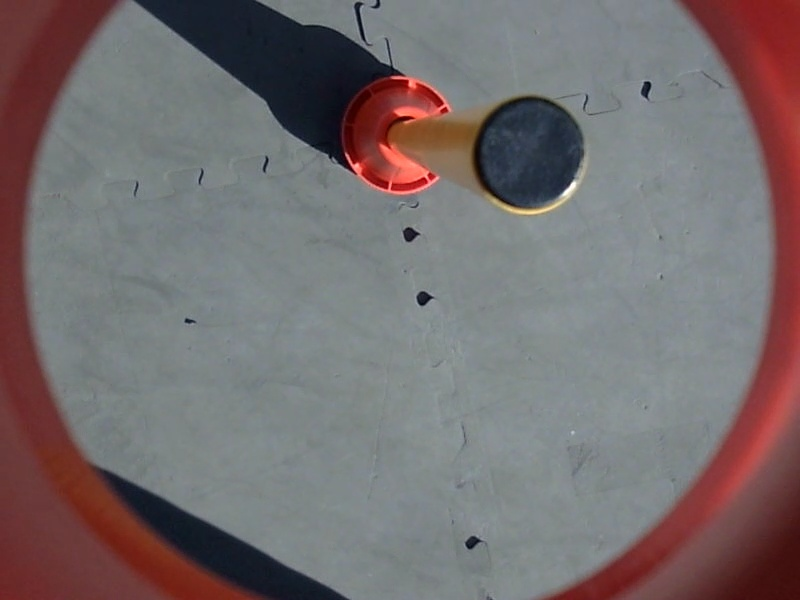tip: (469, 94, 595, 217)
